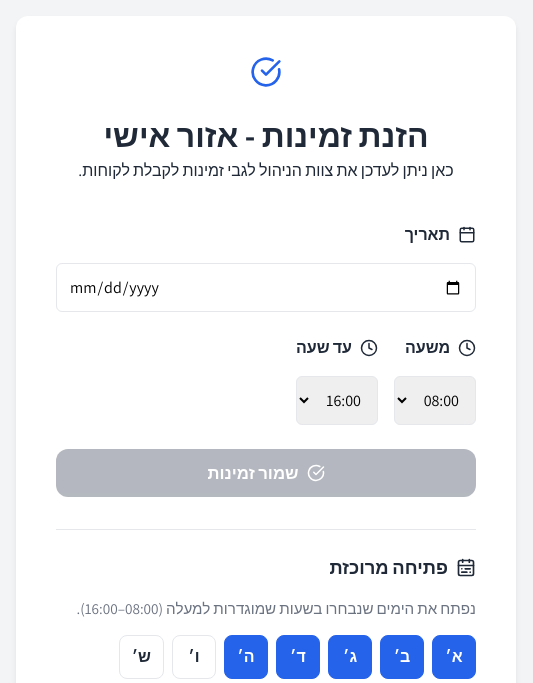
it: EmployeeAvailabilityPage › shows a friendly error when saving fails
Type "2099-02-01" into the date field labelled "תאריך".
click(266, 288); type("2099-02-01")  # box [56, 263, 476, 312]
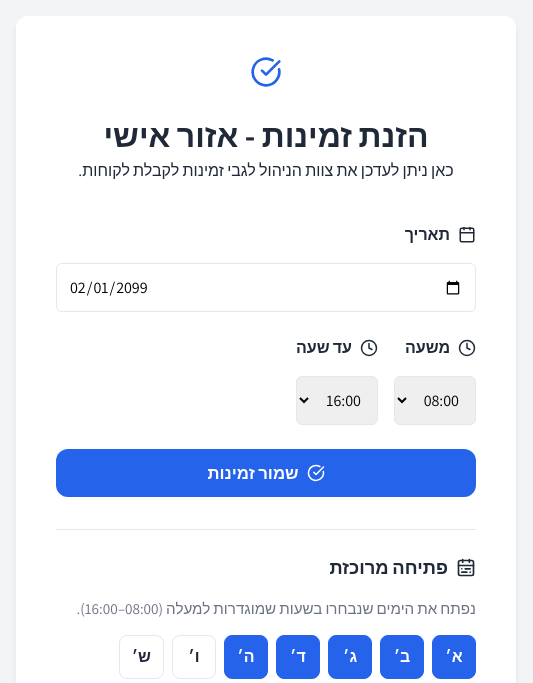
Submit the form "תאריך משעה עד שעה שמור זמינות", box [56, 223, 476, 497]
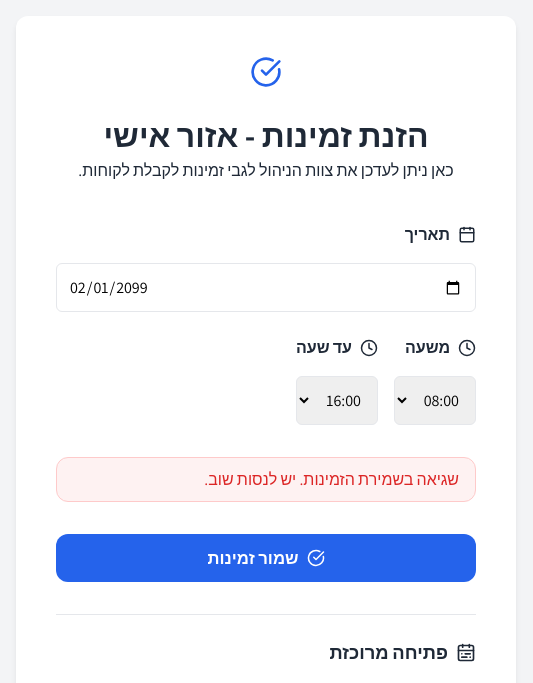
Expected: the text "שגיאה בשמירת הזמינות. יש לנסות שוב." is shown, [56, 457, 476, 502]
